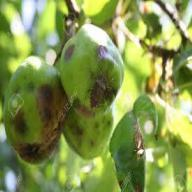apple: (2, 61, 62, 157), (57, 25, 120, 113)
